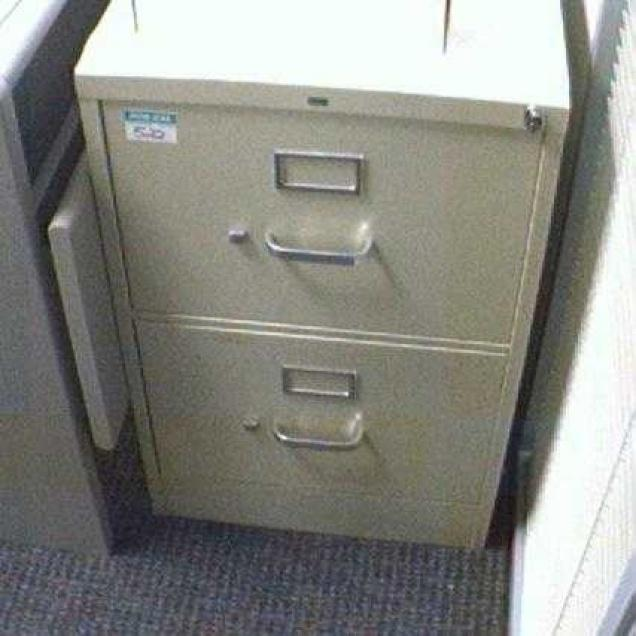Filing Cabinet: (72, 71, 569, 552)
